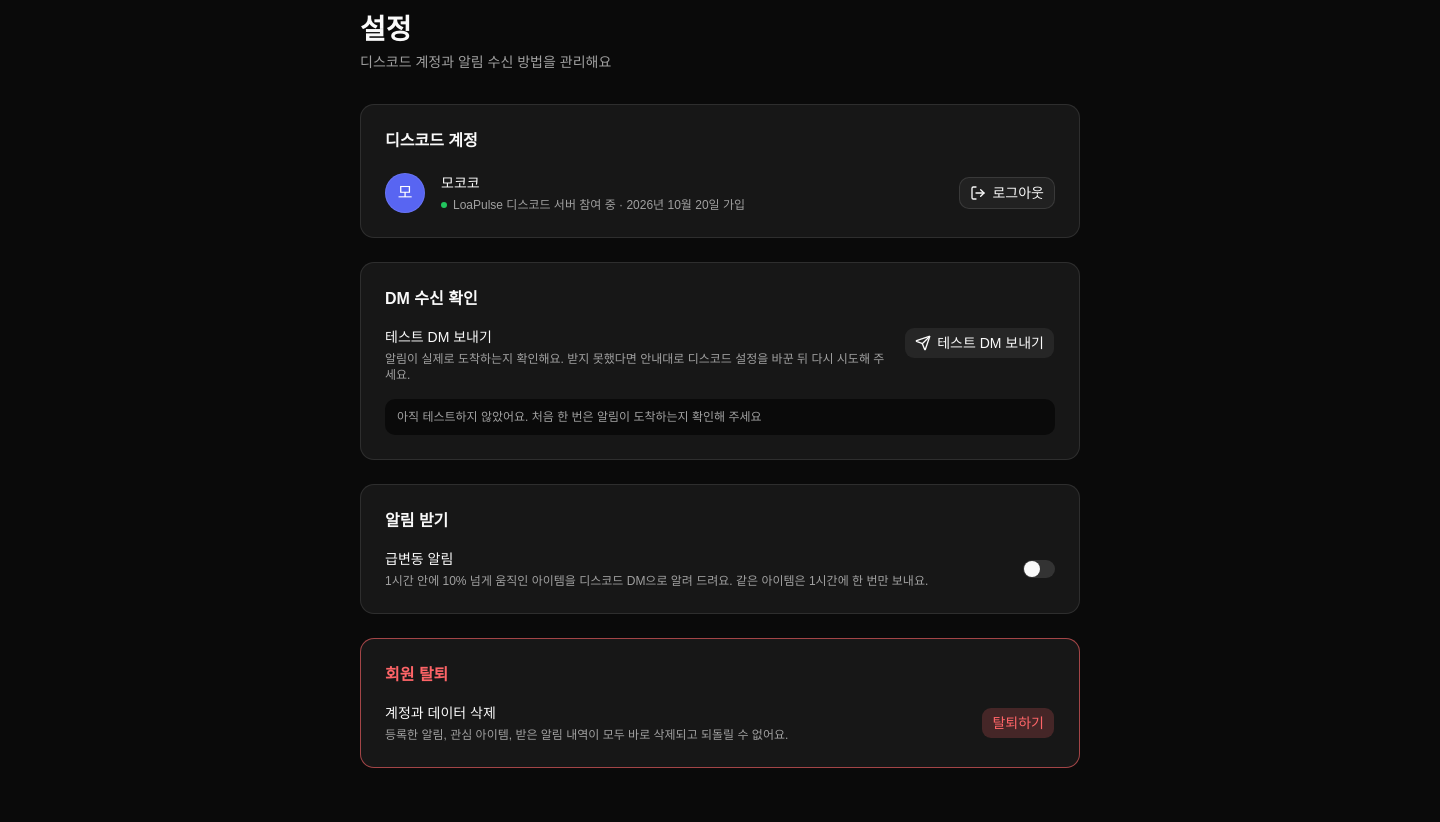
it: 설정 화면 › 급변동 알림을 켠다
Step 1. Click the switch named "급변동 알림" → x=1039, y=569, box [1023,560,1055,578]
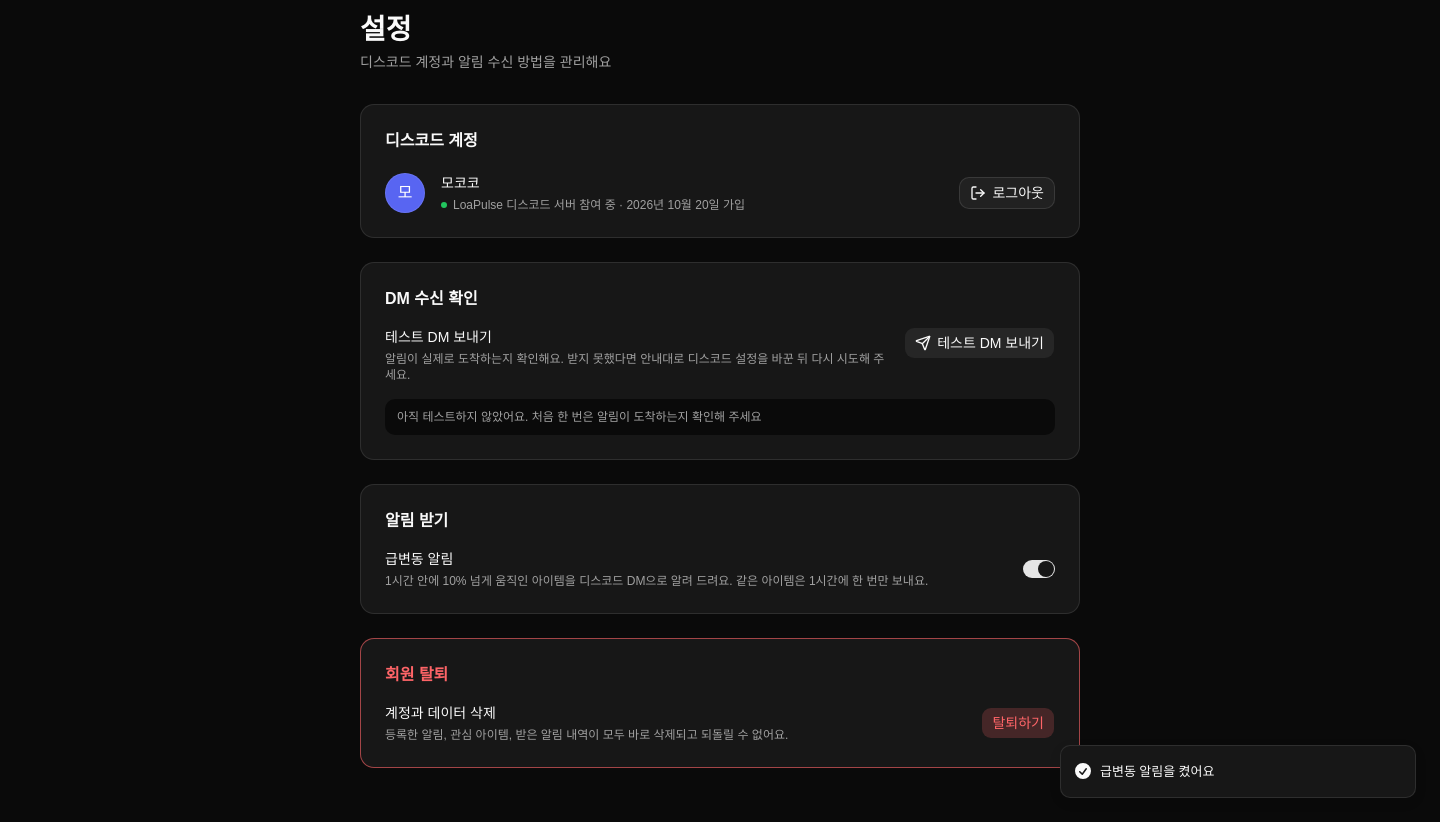
expect the switch named "급변동 알림" is checked: met, box [1023,560,1055,578]
expect the text "급변동 알림을 켰어요" is shown: met, box [1100,762,1214,781]
